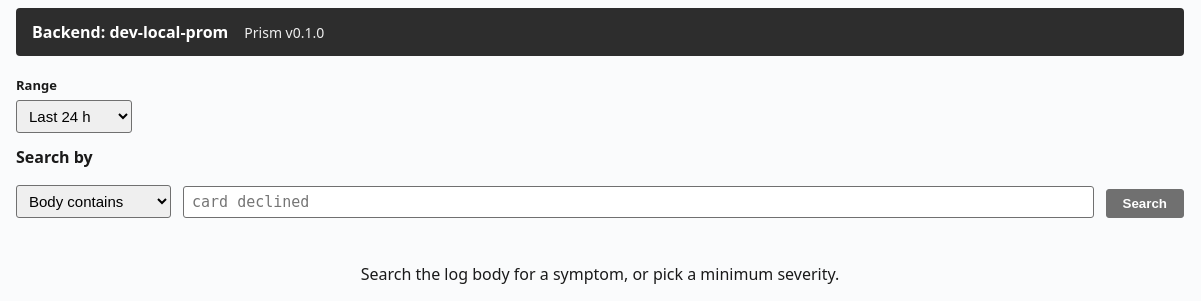
Test: Slice 08 body search — the symptom text finds the matching logs › a capital "Declined" still surfaces a body containing "card declined" (case-insensitive)
The width and height of the screenshot is (1201, 301).
Type "Declined" into the field with test id "log-body-input" at (638, 202), box [183,186,1094,218]
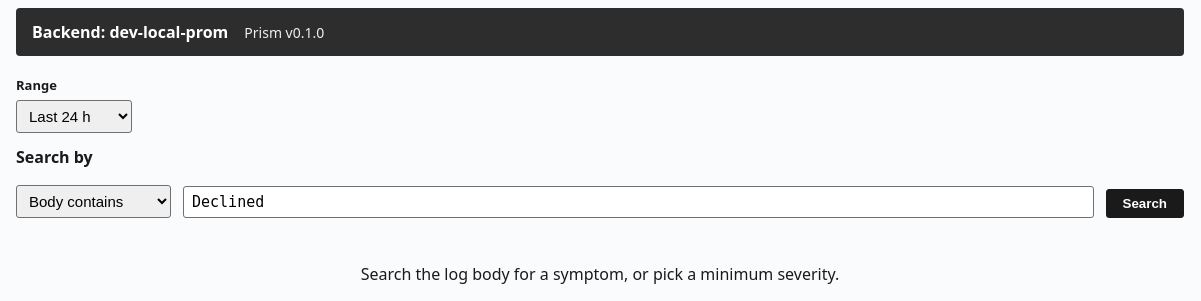
Click the button with test id "log-run-button" at (1145, 203), box [1106,188,1184,218]
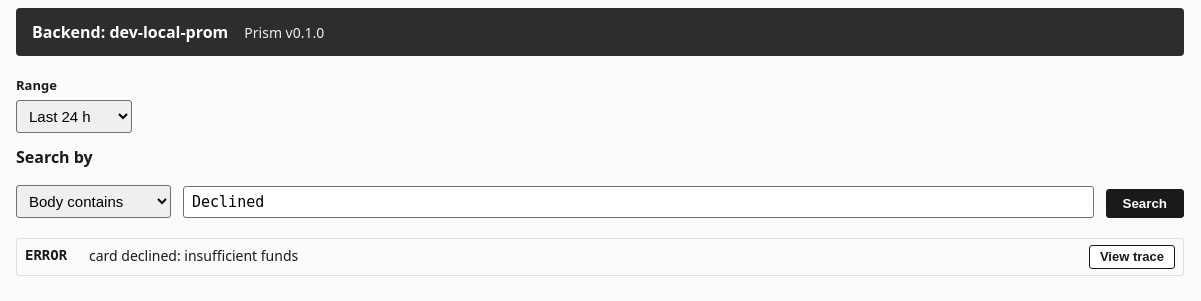
expect the number of list items with test id "log-row" is 1: met, box [16,238,1184,276]
expect the list item with test id "log-row" shows "card declined: insufficient funds": met, box [89,246,298,264]
